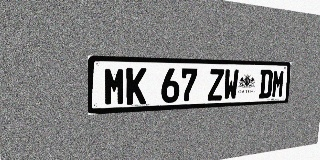6: (161, 68, 180, 103)
7: (180, 68, 197, 102)
D: (259, 69, 273, 98)
K: (126, 68, 147, 105)
M: (104, 67, 126, 106), (271, 70, 285, 98)
W: (223, 69, 239, 100)
Z: (208, 69, 224, 101)
